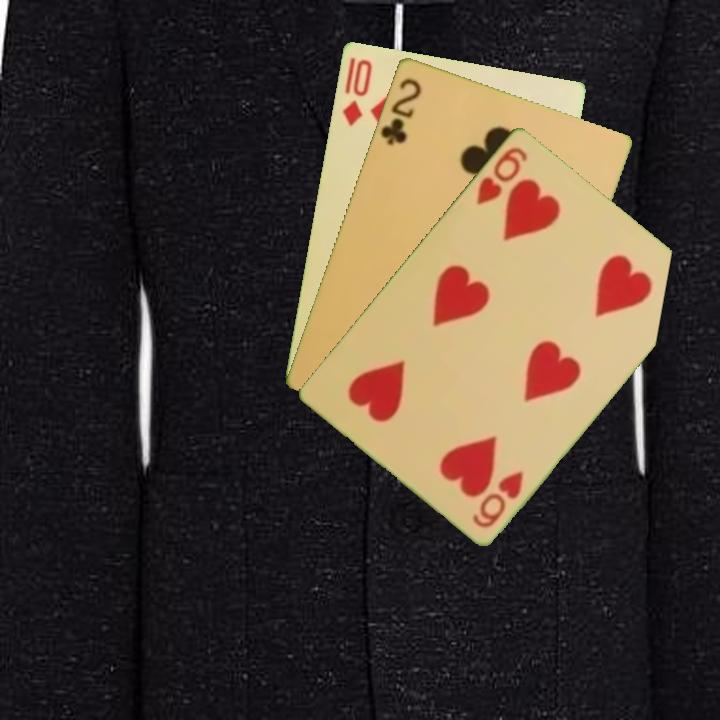10d: (338, 53, 375, 129)
2c: (376, 74, 424, 148)
6h: (472, 142, 531, 208), (469, 466, 527, 530)
